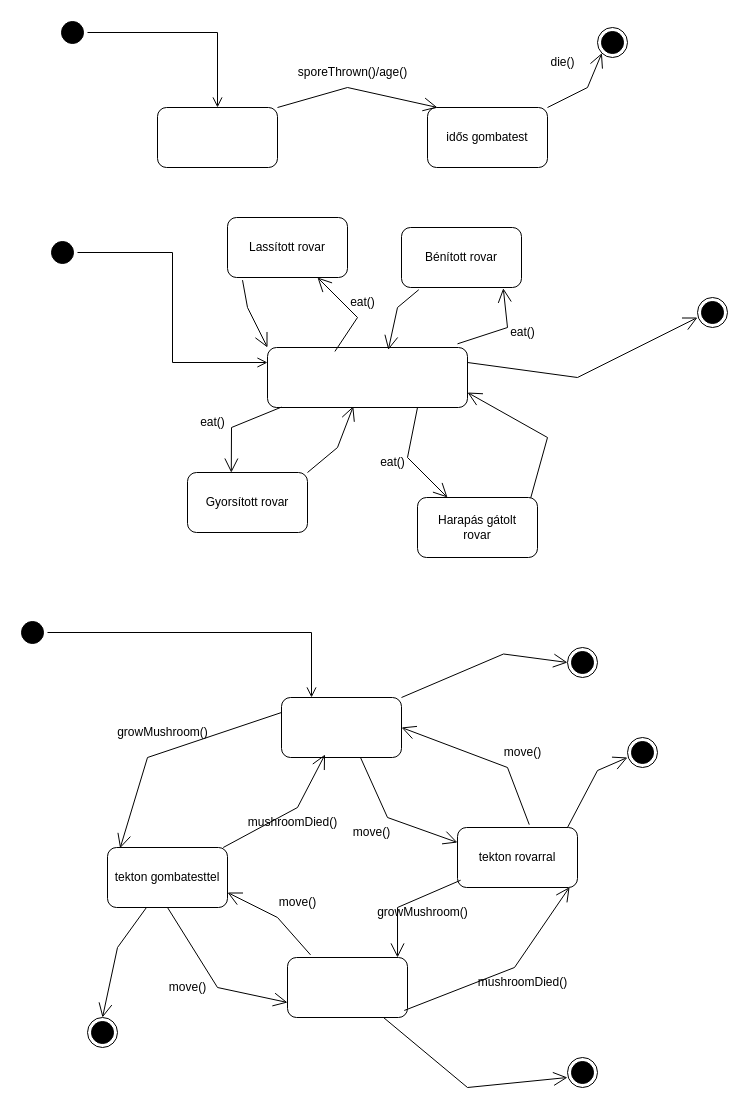
This 745x1119 diagram has some shape labels left out. Each missing label, with the centre of its shape:
"fiatal gombatest" belongs at pixel 217 137.
"Rovar spóra hatás nélkül" belongs at pixel 367 377.
"tekton gombates és rovarral" belongs at pixel 347 987.
"üres tekton" belongs at pixel 341 727.
